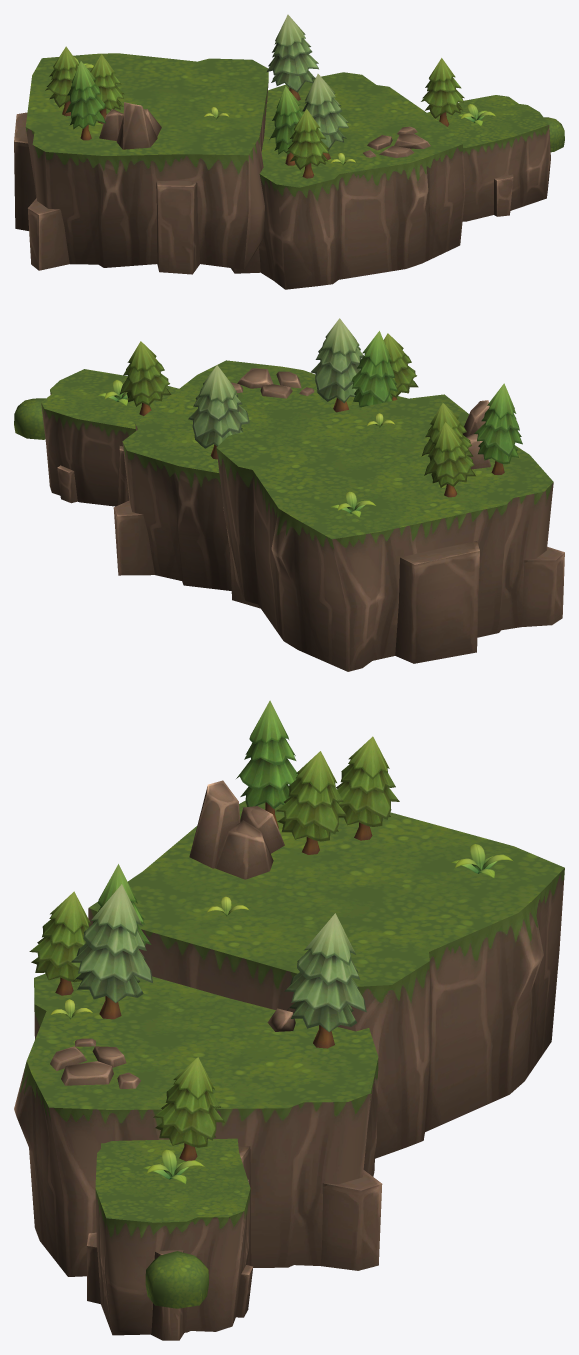
The model's file is Woodland_Hill_06.gltf.
3 views of the same model, one above another, from view 1: azimuth 30°, elevation 25°; view 2: azimuth 150°, elevation 25°; view 3: azimuth 270°, elevation 25° (orthographic). The views are drawn at different scales.
Visible parts, largest first — view 1: rockL_wood (2), rockL_wood (1), rockM_wood (1), Pine01 (3), rock6 (1), Pine03 (3), Pine01 (2), Pine02 (2), Pine02 (3), Pine03 (2), Pine02 (4), rock2 (+2 smaller); view 2: rockL_wood (2), rockL_wood (1), rockM_wood (1), Pine01 (3), Pine01 (2), Pine03 (3), Pine03 (2), Pine02 (4), Pine02 (3), rock2, Pine02 (2), bush (1) (+2 smaller); view 3: rockL_wood (2), rockL_wood (1), rockM_wood (1), Pine01 (3), Pine01 (2), rock6 (1), Pine02 (5), Pine02 (3), Pine03 (3), Pine02 (4), Pine02 (2), bush (1) (+4 smaller).
Part boxes in pixels (x1,y1,x2,y2): rockL_wood (2): [14, 53, 268, 274]; rockL_wood (1): [231, 72, 465, 289]; rockM_wood (1): [427, 95, 550, 221]; Pine01 (3): [267, 14, 318, 100]; rock6 (1): [99, 102, 161, 149]; Pine03 (3): [64, 61, 105, 140]; Pine01 (2): [302, 74, 348, 159]; Pine02 (2): [286, 109, 329, 178]; Pine02 (3): [421, 58, 464, 126]; Pine03 (2): [269, 86, 303, 165]; Pine02 (4): [45, 46, 78, 116]; rock2: [363, 126, 430, 157]; rockL_wood (2): [216, 394, 564, 671]; rockL_wood (1): [113, 360, 407, 608]; rockM_wood (1): [41, 369, 178, 506]; Pine01 (3): [188, 365, 249, 459]; Pine01 (2): [311, 318, 363, 412]; Pine03 (3): [474, 383, 522, 474]; Pine03 (2): [351, 331, 398, 407]; Pine02 (4): [424, 422, 475, 497]; Pine02 (3): [119, 341, 171, 415]; rock2: [231, 368, 314, 398]; Pine02 (2): [383, 333, 418, 400]; bush (1): [14, 398, 45, 439]; rockL_wood (2): [88, 800, 564, 1158]; rockL_wood (1): [14, 973, 382, 1276]; rockM_wood (1): [86, 1138, 253, 1340]; Pine01 (3): [284, 913, 366, 1048]; Pine01 (2): [71, 884, 152, 1019]; rock6 (1): [189, 780, 284, 879]; Pine02 (5): [276, 751, 347, 854]; Pine02 (3): [153, 1057, 224, 1161]; Pine03 (3): [236, 700, 297, 828]; Pine02 (4): [336, 736, 399, 840]; Pine02 (2): [29, 891, 90, 995]; bush (1): [145, 1251, 208, 1308].
Bounding box in the file's own units: 6.97 × 2.86 × 4.24.
5 materials, 5 textured.
